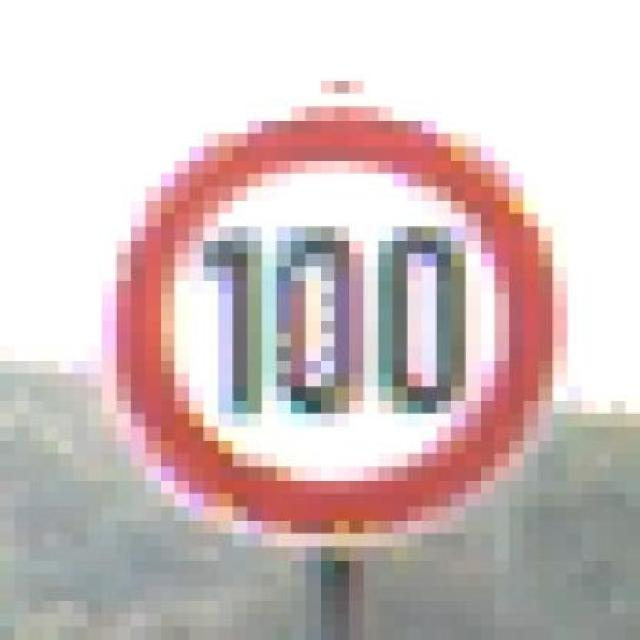forb_speed_over_100: (109, 110, 560, 542)
